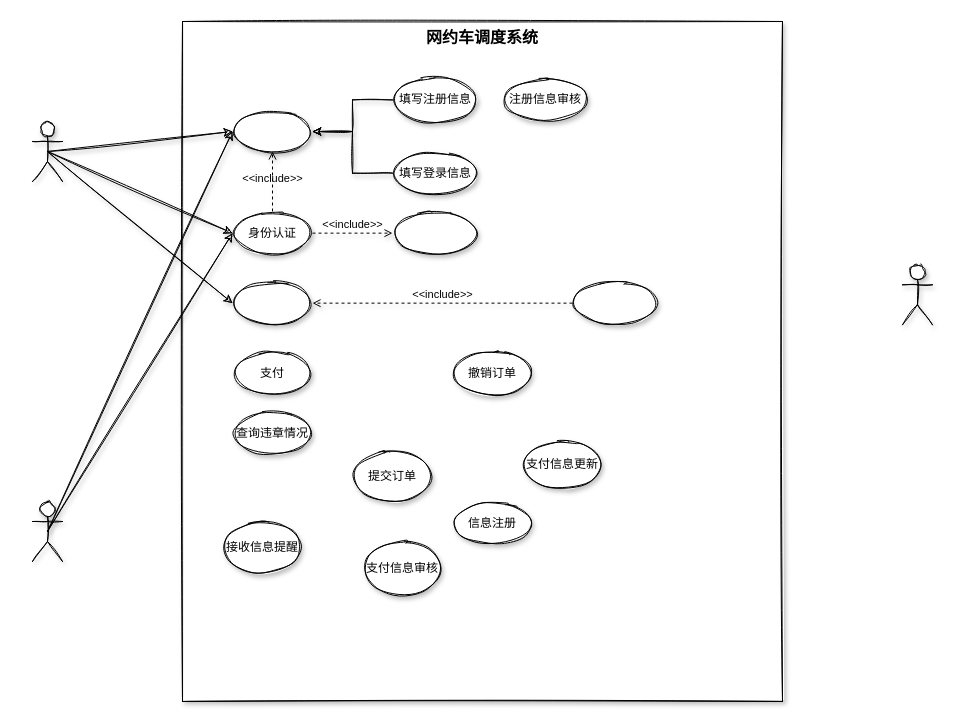
The diagram is 964 pixels wide and 726 high, and some of its shapes have lost their labels. Here are the shapes that lost their labels. From the top down, the centre of each, then its label:
At [48,152]: "乘客".
At [273,132]: "填写信息".
At [436,234]: "登录信息审核".
At [273,304]: "查询信用信息".
At [616,304]: "信用信息管理".
At [918,296]: "平台管理员".
At [48,532]: "网约车司机".
